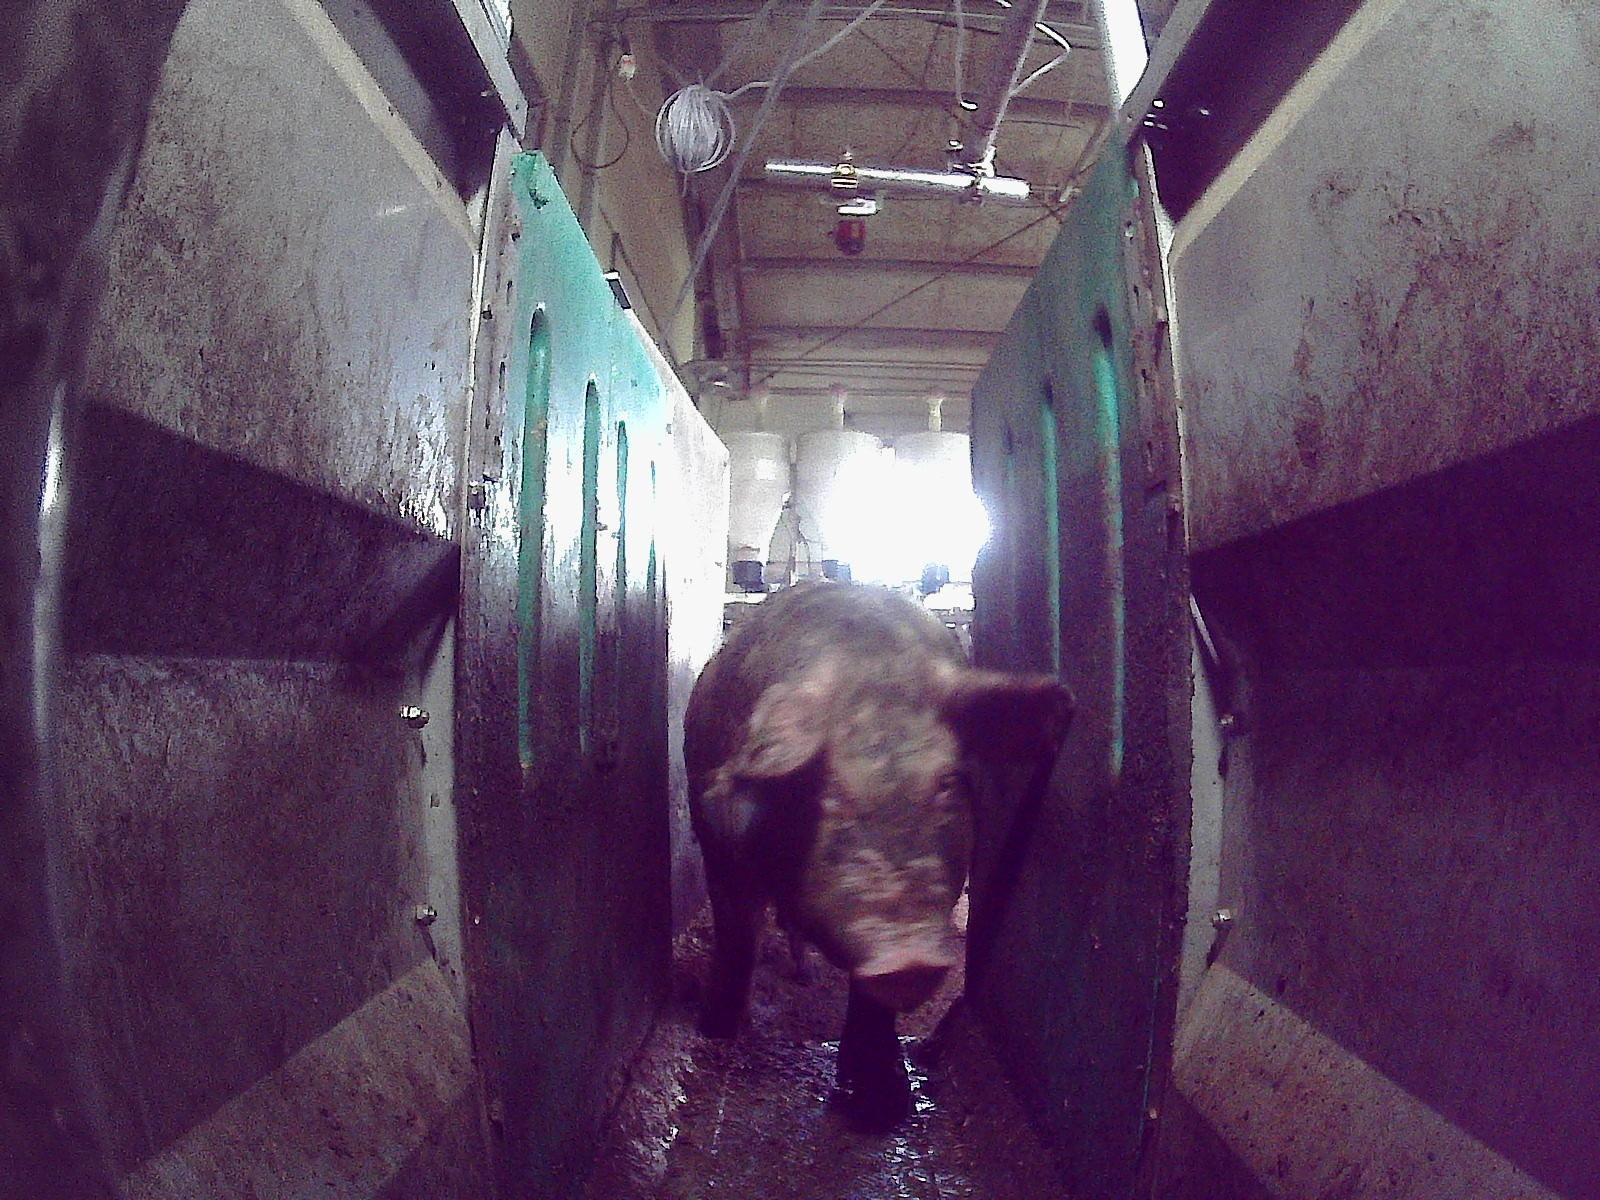Face: (763, 653, 990, 1014)
